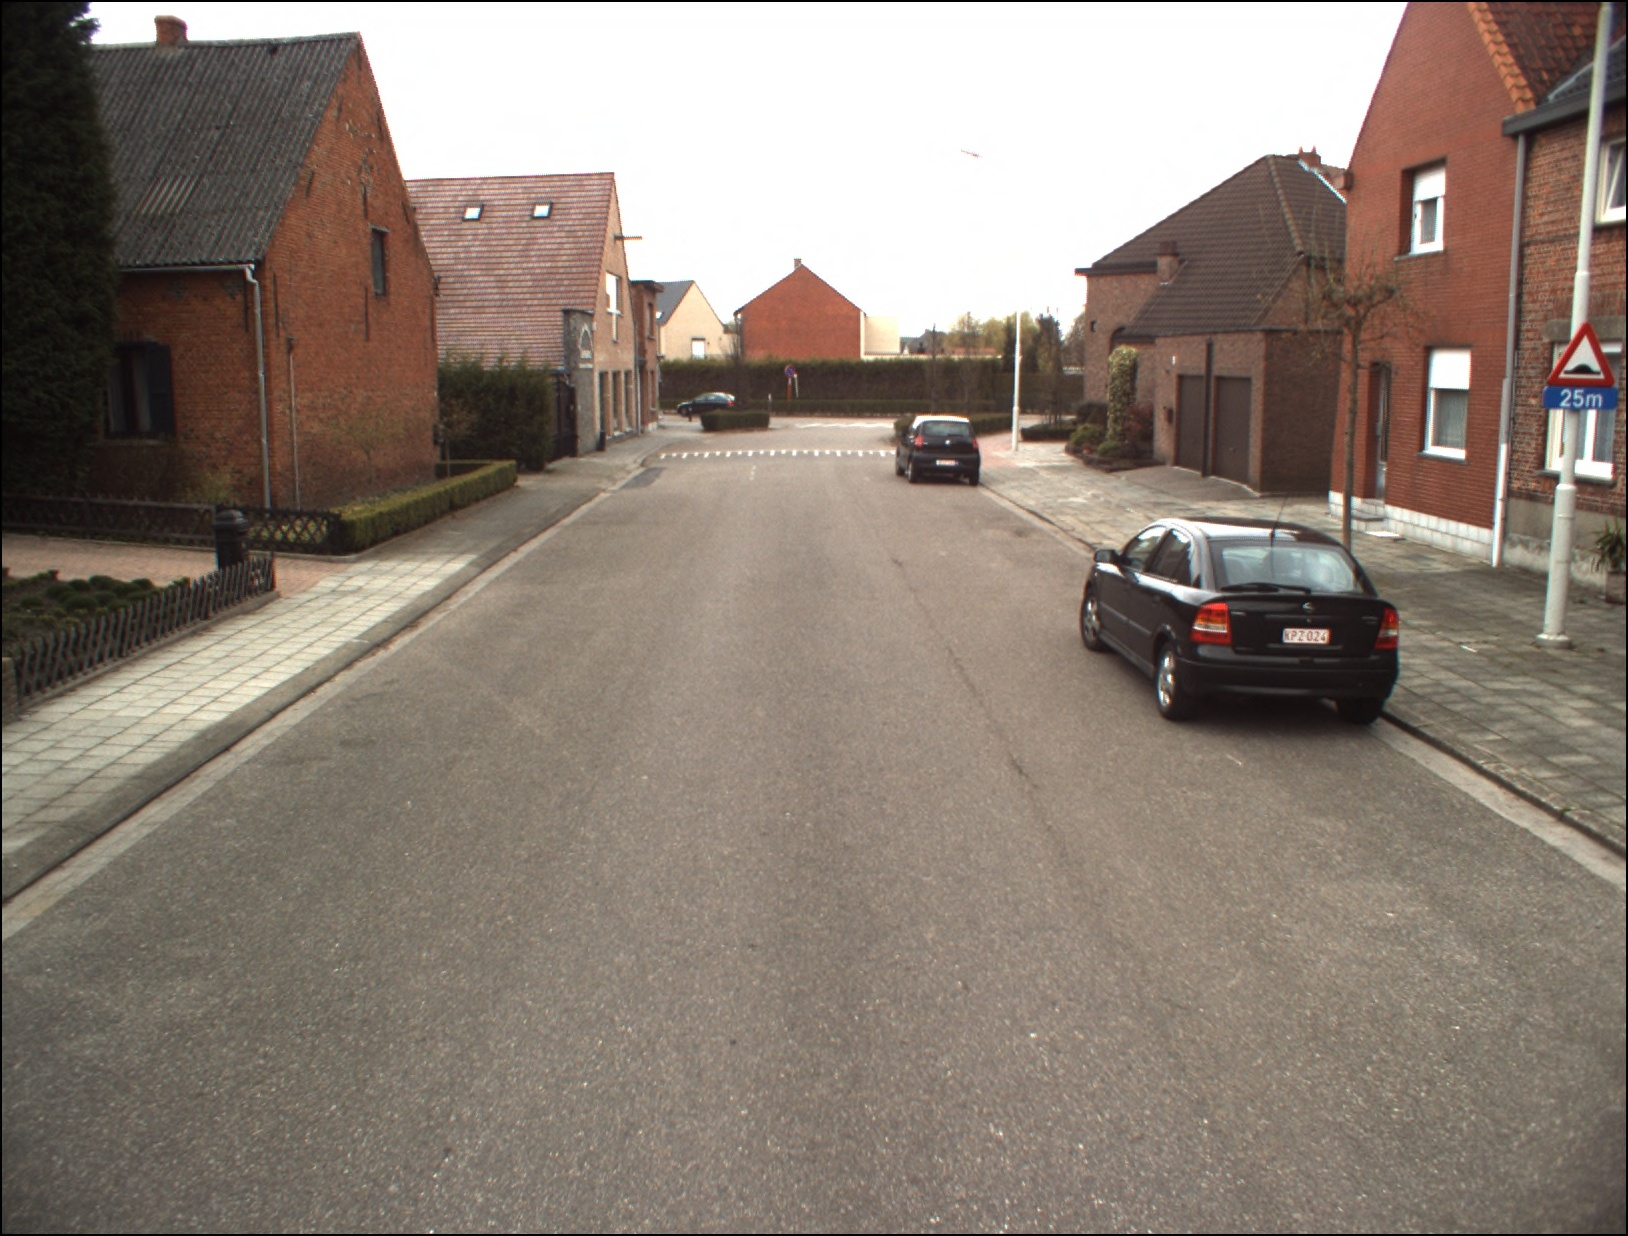speedbump: (1549, 321, 1618, 386)
